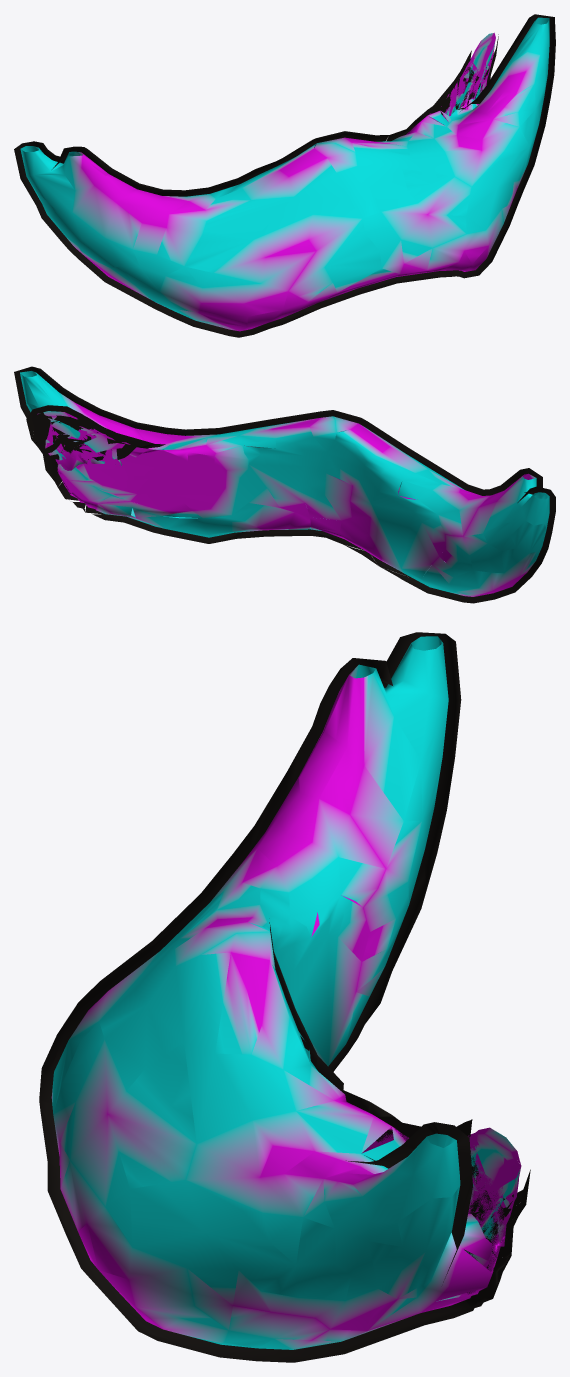
File: beard_moustache_male_lo.glb
3 renders of one model, top to bottom at view 1: azimuth 30°, elevation 25°; view 2: azimuth 150°, elevation 25°; view 3: azimuth 270°, elevation 25°, orthographic. The views are drawn at different scales.
Visible parts, largest first — view 1: beard_moustache_male_hi; view 2: beard_moustache_male_hi; view 3: beard_moustache_male_hi.
Boxes of the visible parts, left/top/right/bottom form: beard_moustache_male_hi: left=14, top=14, right=555, bottom=337; beard_moustache_male_hi: left=14, top=366, right=555, bottom=603; beard_moustache_male_hi: left=39, top=632, right=530, bottom=1362.
Size of the model in its own units: 0.3361 by 0.1052 by 0.1337.
